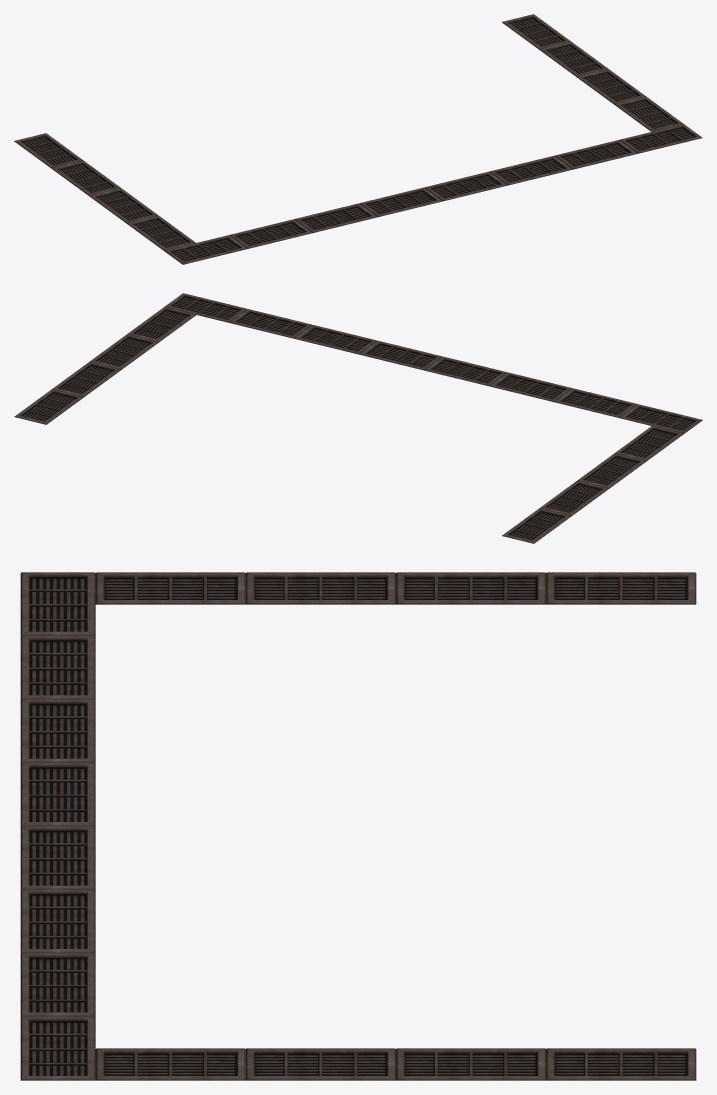
The model's file is Arena Area Rack Tiles 1.fbx.
3 views of the same model, one above another, from view 1: azimuth 30°, elevation 25°; view 2: azimuth 150°, elevation 25°; view 3: azimuth 270°, elevation 25° (orthographic). The views are drawn at different scales.
Visible parts, largest first — view 1: Arena Area Rack Tiles 1; view 2: Arena Area Rack Tiles 1; view 3: Arena Area Rack Tiles 1.
Boxes of the visible parts, x1=… form: Arena Area Rack Tiles 1: x1=14, y1=14, x2=702, y2=264; Arena Area Rack Tiles 1: x1=14, y1=293, x2=702, y2=543; Arena Area Rack Tiles 1: x1=20, y1=572, x2=696, y2=1080.
Bounding box in the file's own units: 48 × 0.1342 × 27.
